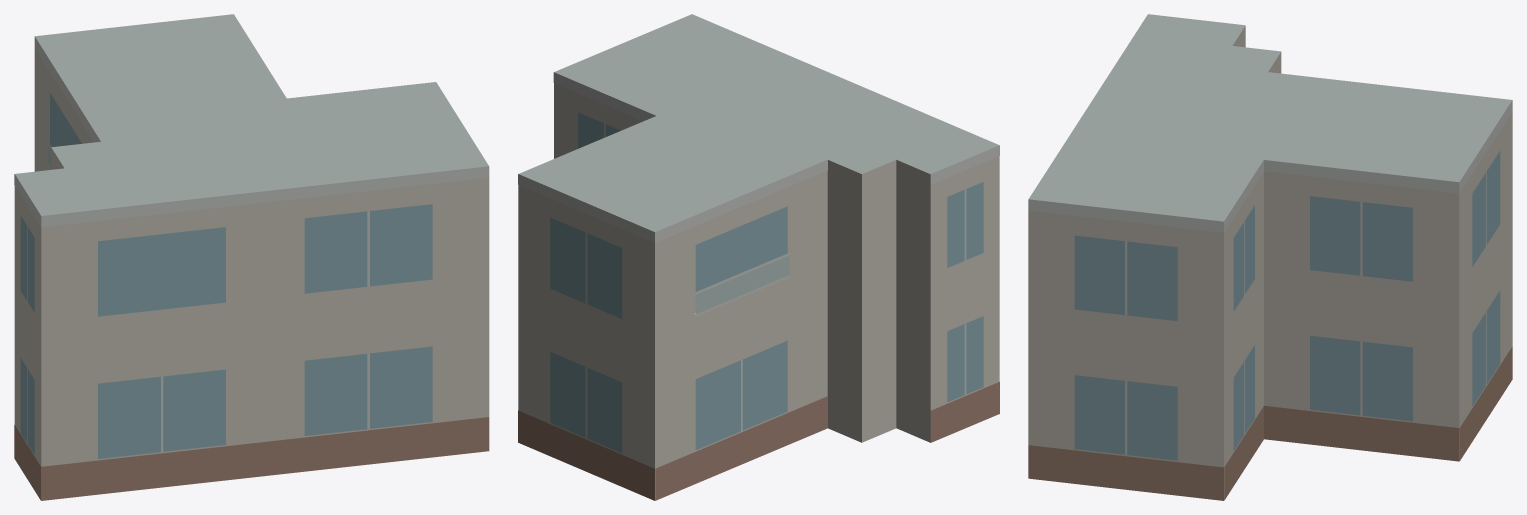
The model's file is survey-upis-32889466.glb.
3 renders of one model, left to right at view 1: azimuth 30°, elevation 25°; view 2: azimuth 150°, elevation 25°; view 3: azimuth 270°, elevation 25°, orthographic. The views are drawn at different scales.
Visible parts, largest first — view 1: survey-upis-32889466.tmp; view 2: survey-upis-32889466.tmp; view 3: survey-upis-32889466.tmp.
Boxes of the visible parts, x1,y1,x2,y2 form: survey-upis-32889466.tmp: (14,14,489,500); survey-upis-32889466.tmp: (518,14,999,500); survey-upis-32889466.tmp: (1028,14,1512,500).
Bounding box in the file's own units: 9.73 × 6.1 × 9.6.
